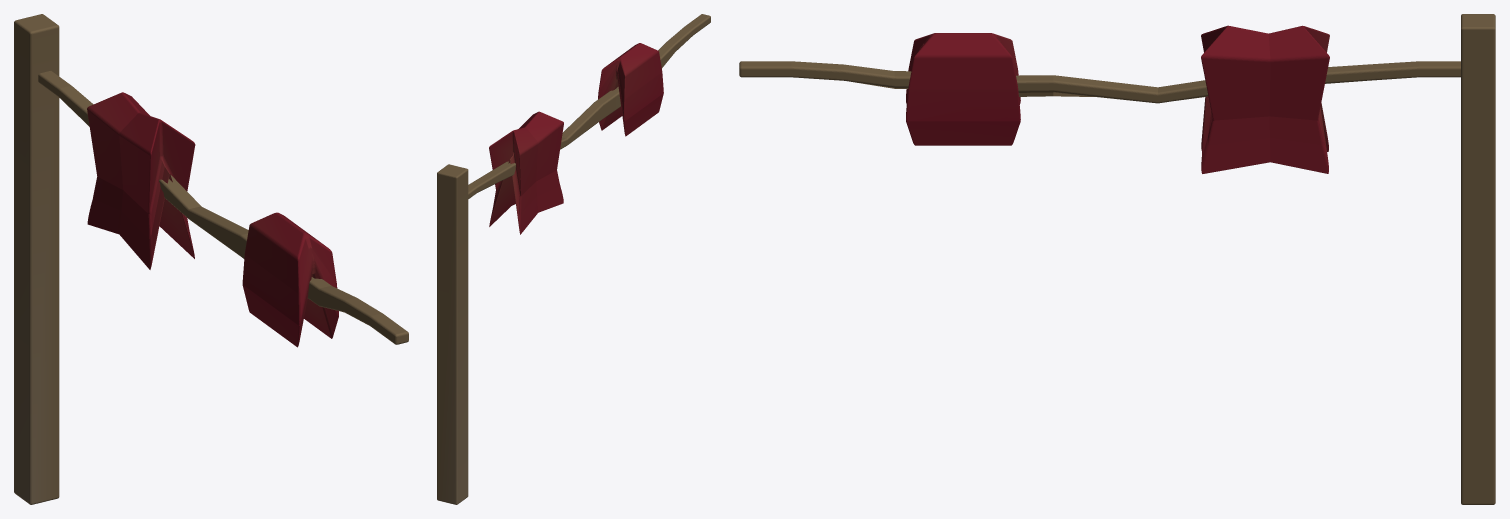
File: Varal.fbx
3 renders of one model, left to right at view 1: azimuth 30°, elevation 25°; view 2: azimuth 150°, elevation 25°; view 3: azimuth 270°, elevation 25°, orthographic. The views are drawn at different scales.
Visible parts, largest first — view 1: vARAL; view 2: vARAL; view 3: vARAL.
Part boxes in pixels (box(x1,y1,x2,y2)): vARAL: box(14, 14, 408, 504); vARAL: box(437, 14, 710, 504); vARAL: box(739, 14, 1495, 504).
Size of the model in its own units: 51.49 by 518 by 743.
